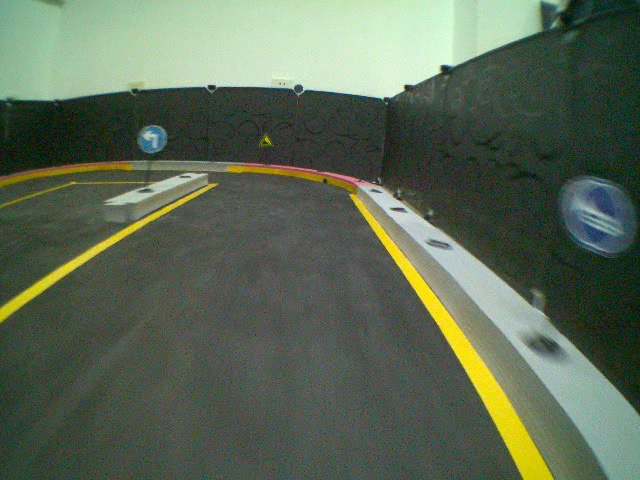fast: (257, 132, 274, 148)
horn: (558, 174, 639, 260)
turn: (136, 124, 167, 154)
